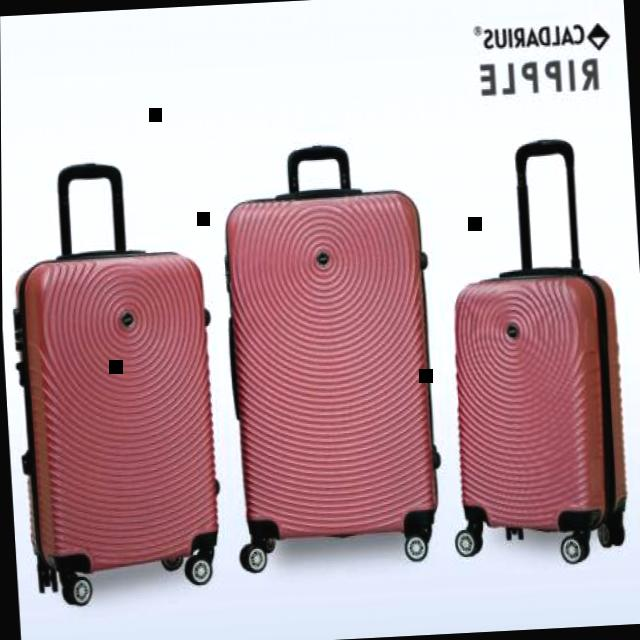luggage: (213, 180, 450, 554), (4, 237, 228, 586), (439, 255, 635, 551)
